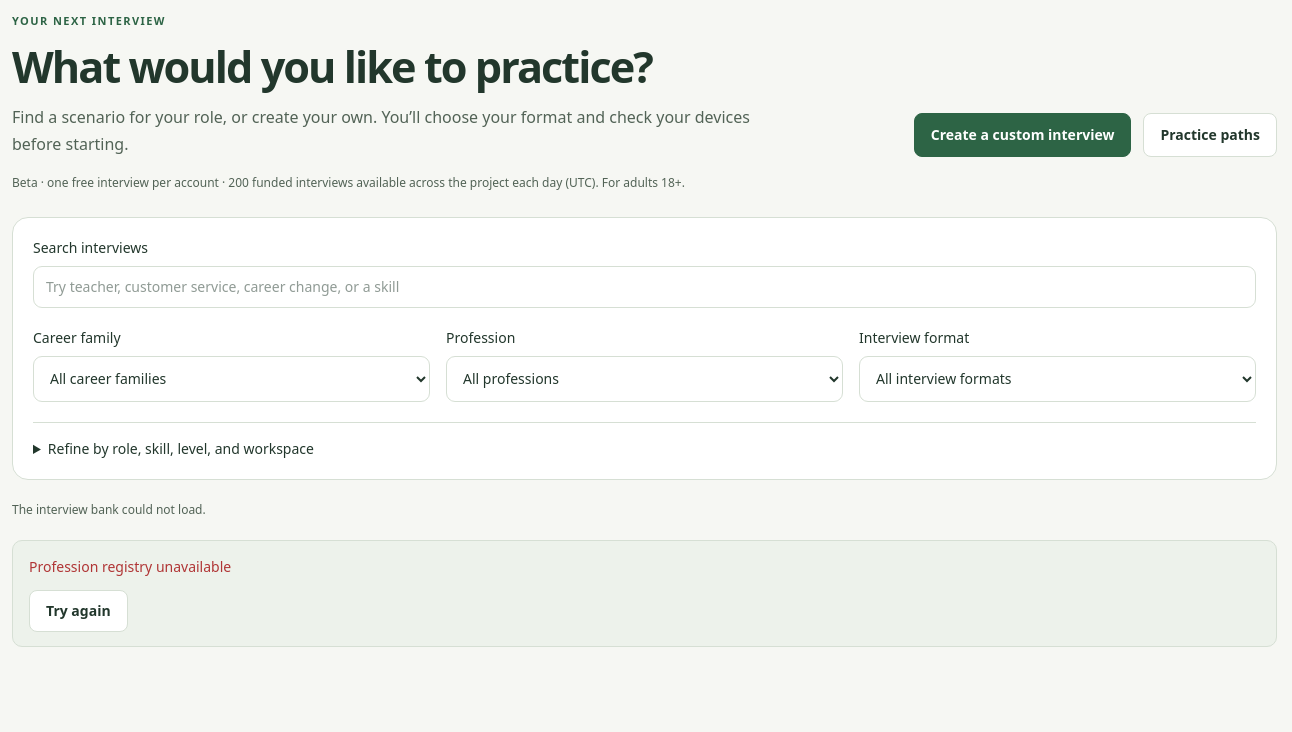
interview catalog › retries both resources when the profession registry fails
Check: the message "Profession registry unavailable Try again" is shown, box [12,540,1277,647]
Check: the message "The interview bank could not load." is shown, box [12,500,206,520]
Click the button "Try again". click: (78, 611)
box: [29,590,128,632]
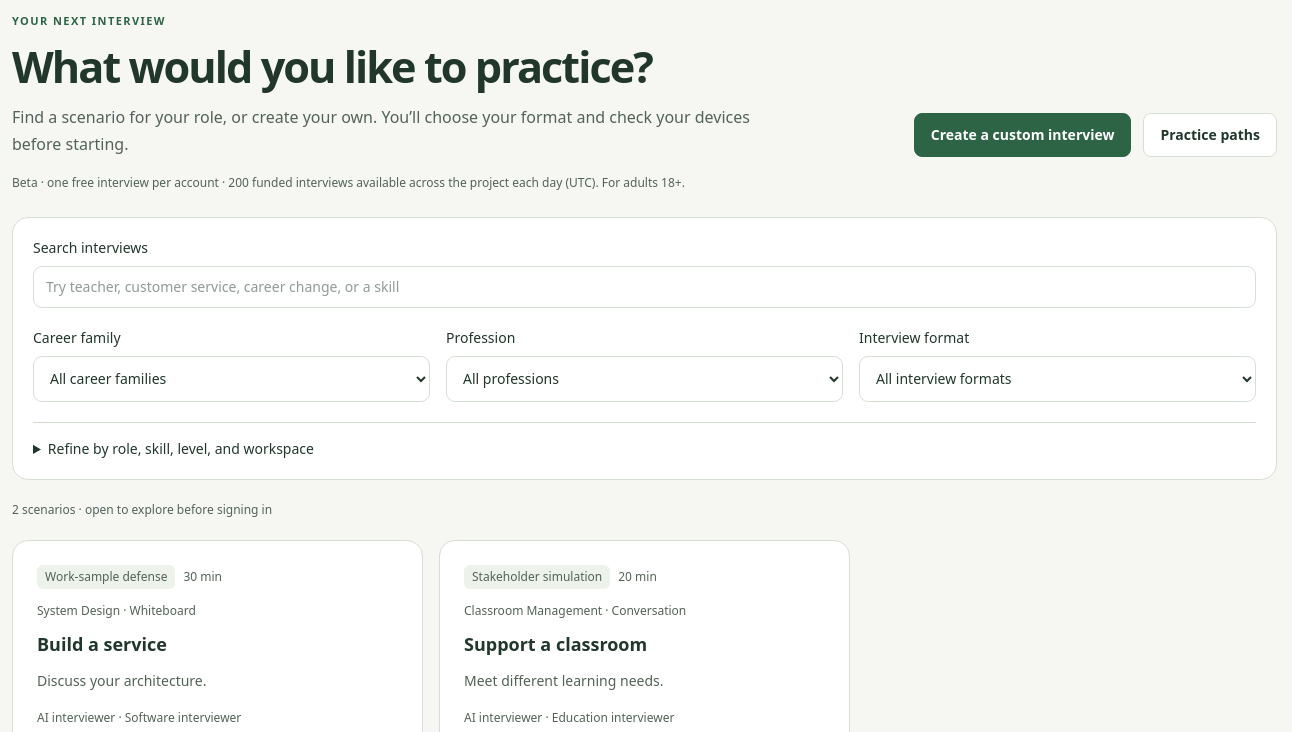
Check: the message "Profession registry unavailable Try again" is gone
